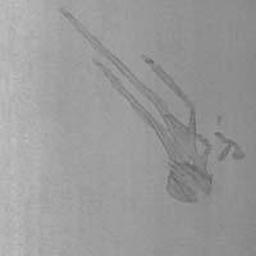Water spot: (59, 8, 215, 204), (215, 132, 246, 163)
